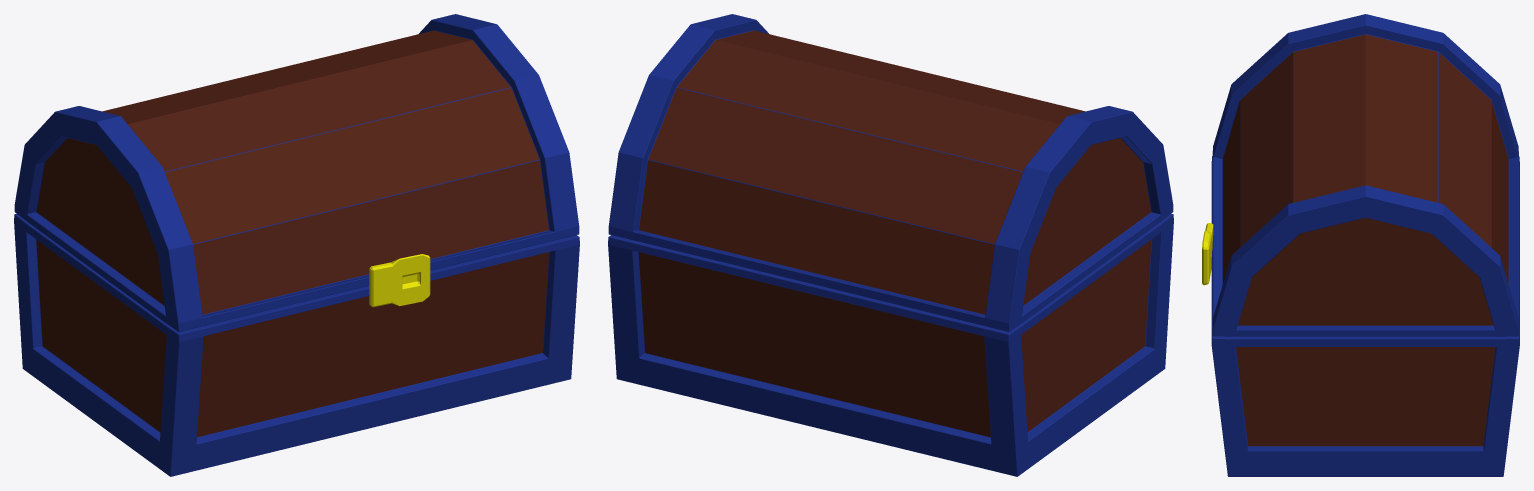
The model's file is Baul.fbx.
3 views of the same model, side by side, from view 1: azimuth 30°, elevation 25°; view 2: azimuth 150°, elevation 25°; view 3: azimuth 270°, elevation 25° (orthographic). The views are drawn at different scales.
Visible parts, largest first — view 1: Cilindro, Cilindro.001; view 2: Cilindro; view 3: Cilindro, Cilindro.001.
Part boxes in pixels (<box>): Cilindro: <box>14,14,579,476</box>; Cilindro.001: <box>369,254,430,307</box>; Cilindro: <box>608,14,1173,476</box>; Cilindro: <box>1211,14,1519,476</box>; Cilindro.001: <box>1202,223,1213,285</box>.
Size of the model in its own units: 278 by 200 by 205.
